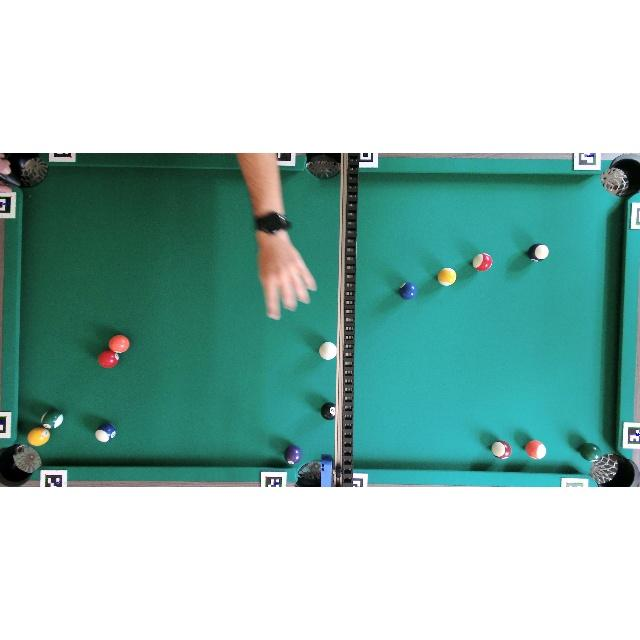cue ball: (318, 342, 338, 361)
other: (27, 426, 50, 446), (578, 442, 601, 462), (42, 410, 64, 430), (108, 334, 130, 354), (525, 440, 546, 460), (95, 423, 116, 443), (491, 440, 511, 460), (98, 349, 119, 368), (398, 281, 418, 300), (528, 243, 548, 262), (472, 253, 492, 271), (284, 445, 302, 465), (438, 268, 457, 286), (321, 402, 336, 420)
